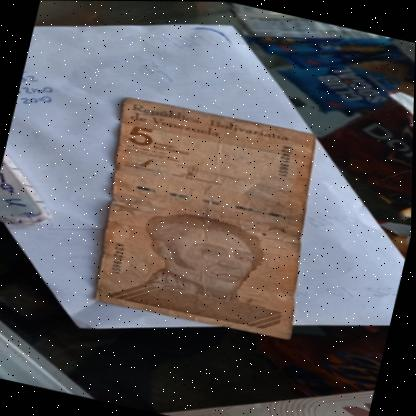five-front-vef: (77, 91, 337, 342)
